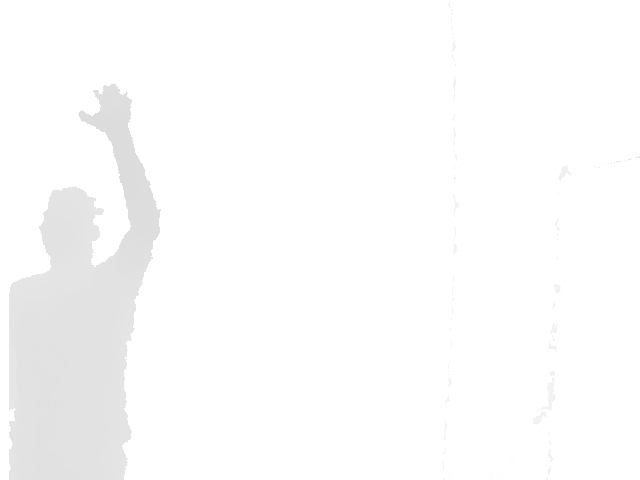hand: (77, 82, 134, 132)
head: (39, 185, 104, 268)
person: (8, 82, 162, 479)
